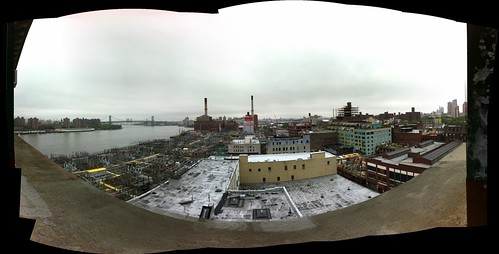building: (370, 144, 461, 196), (236, 148, 334, 183), (338, 122, 396, 154), (266, 129, 308, 154), (229, 136, 264, 157)
river: (18, 121, 184, 167)
sky: (18, 12, 467, 115)
